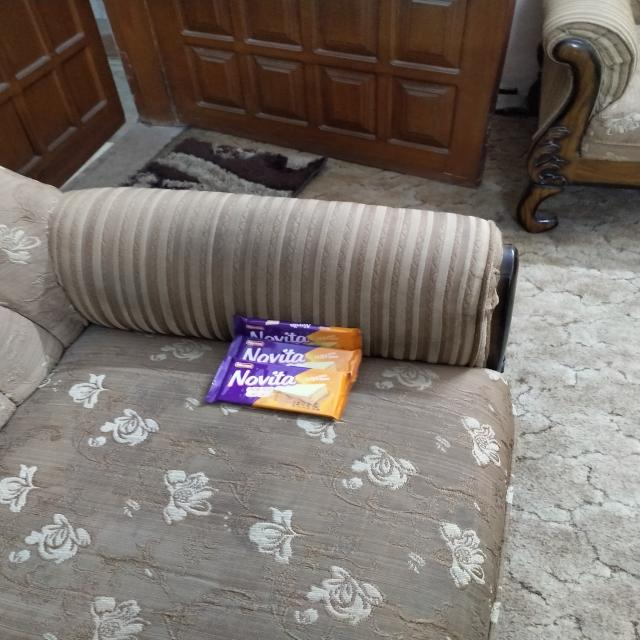Plastic: (211, 366, 351, 418), (233, 314, 364, 341), (229, 346, 363, 363)
